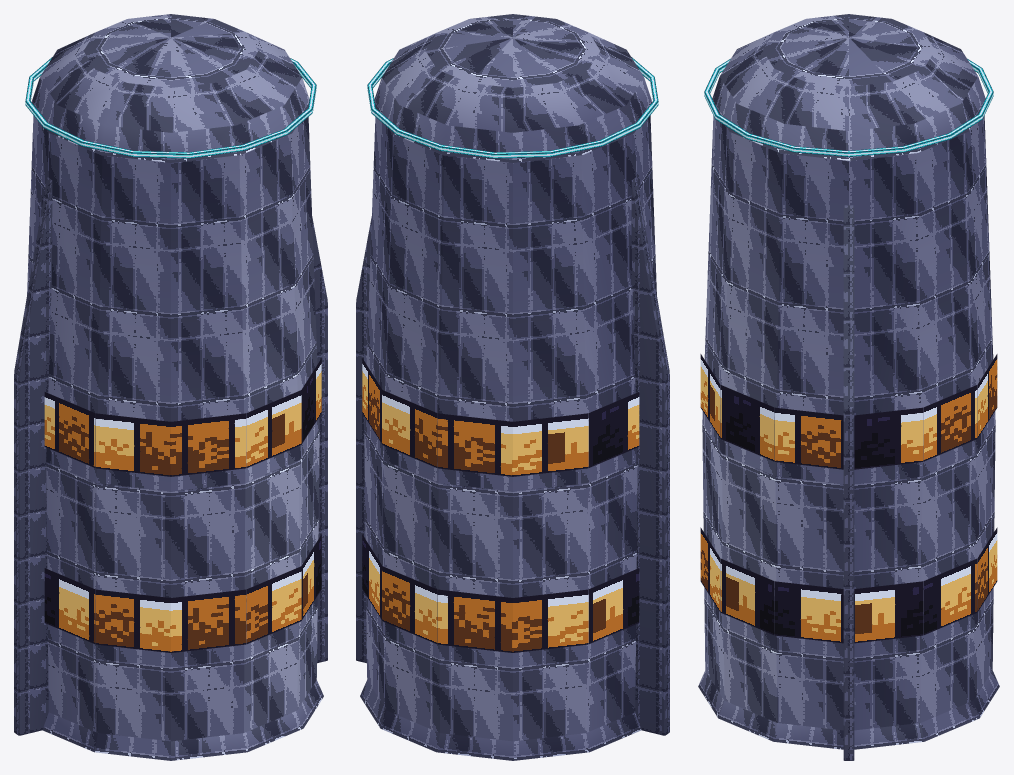
Rendered from cytower.drum__dome.glb.
3 views of the same model, side by side, from view 1: azimuth 30°, elevation 25°; view 2: azimuth 150°, elevation 25°; view 3: azimuth 270°, elevation 25° (orthographic).
Parts seen in each view (by area): view 1: kit_tower, kit_card_windows, kit_crown; view 2: kit_tower, kit_card_windows, kit_crown; view 3: kit_tower, kit_card_windows, kit_crown.
Boxes of the visible parts, <box> form: kit_tower: <box>14,14,327,760</box>; kit_card_windows: <box>44,358,321,652</box>; kit_crown: <box>25,57,316,158</box>; kit_tower: <box>356,14,669,760</box>; kit_card_windows: <box>362,358,639,652</box>; kit_crown: <box>367,57,658,158</box>; kit_tower: <box>698,14,999,760</box>; kit_card_windows: <box>700,354,997,643</box>; kit_crown: <box>704,58,993,156</box>.
Size of the model in its own units: 14.7 by 29.9 by 12.6.
4 materials, 4 textured.
